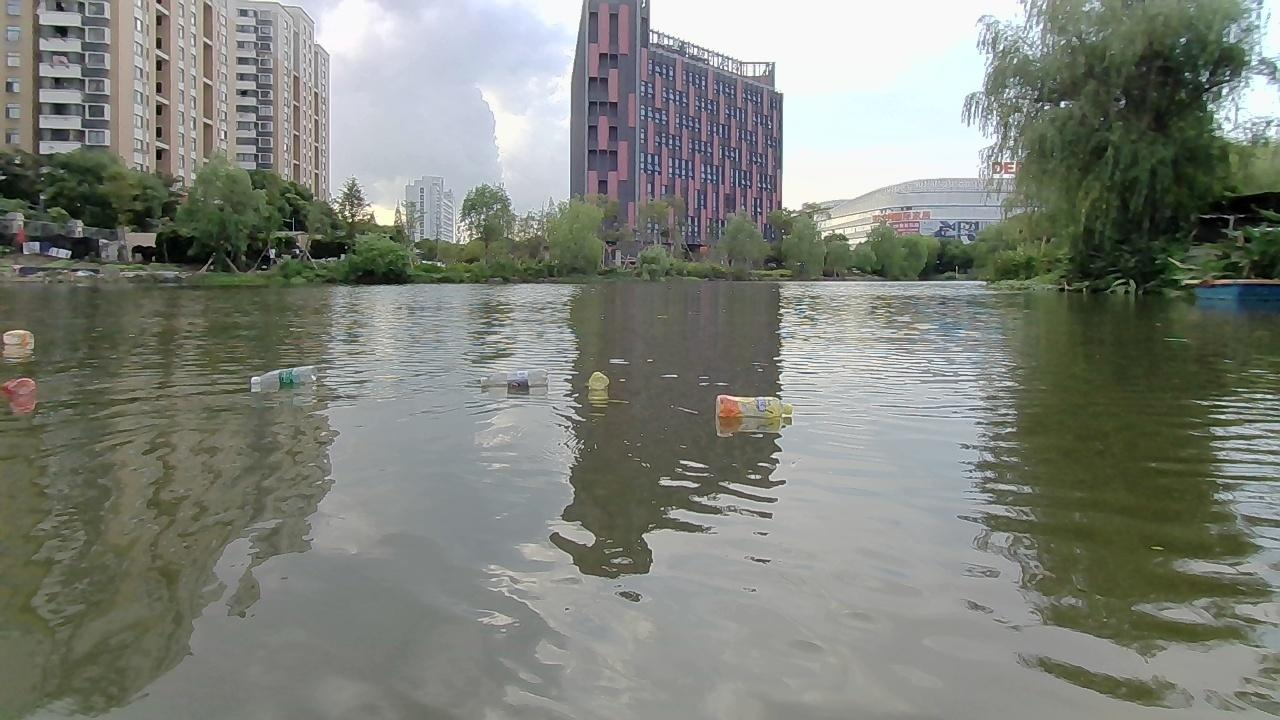bottle: (711, 389, 796, 424), (246, 367, 322, 392), (474, 367, 541, 393), (583, 368, 616, 392), (0, 377, 36, 397), (0, 327, 39, 344)
